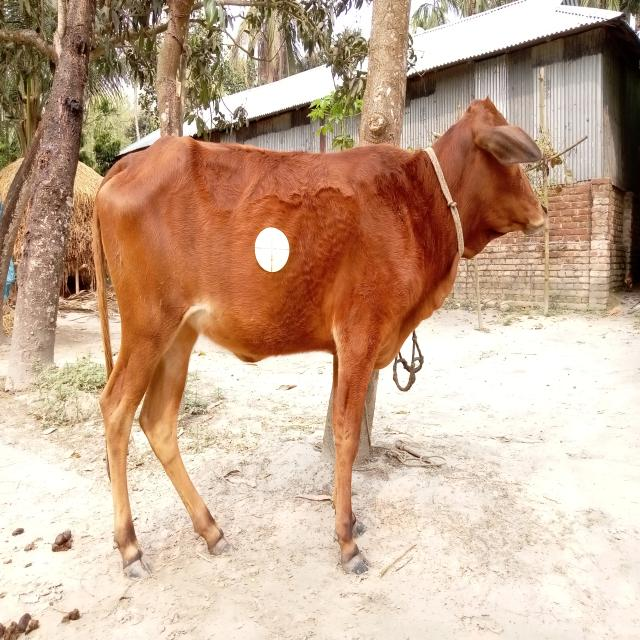badan_sapi: (97, 149, 394, 359)
sapi: (83, 103, 560, 594)
